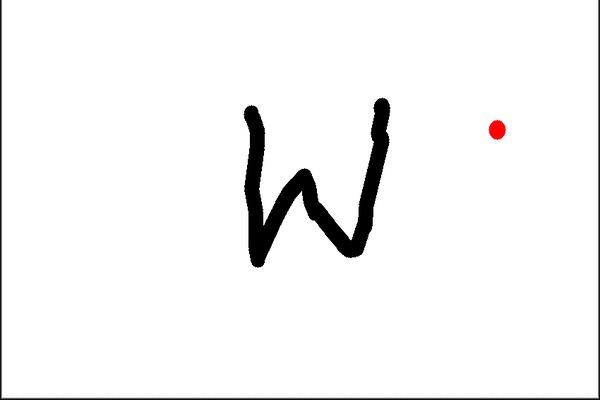w: (228, 92, 399, 281)
